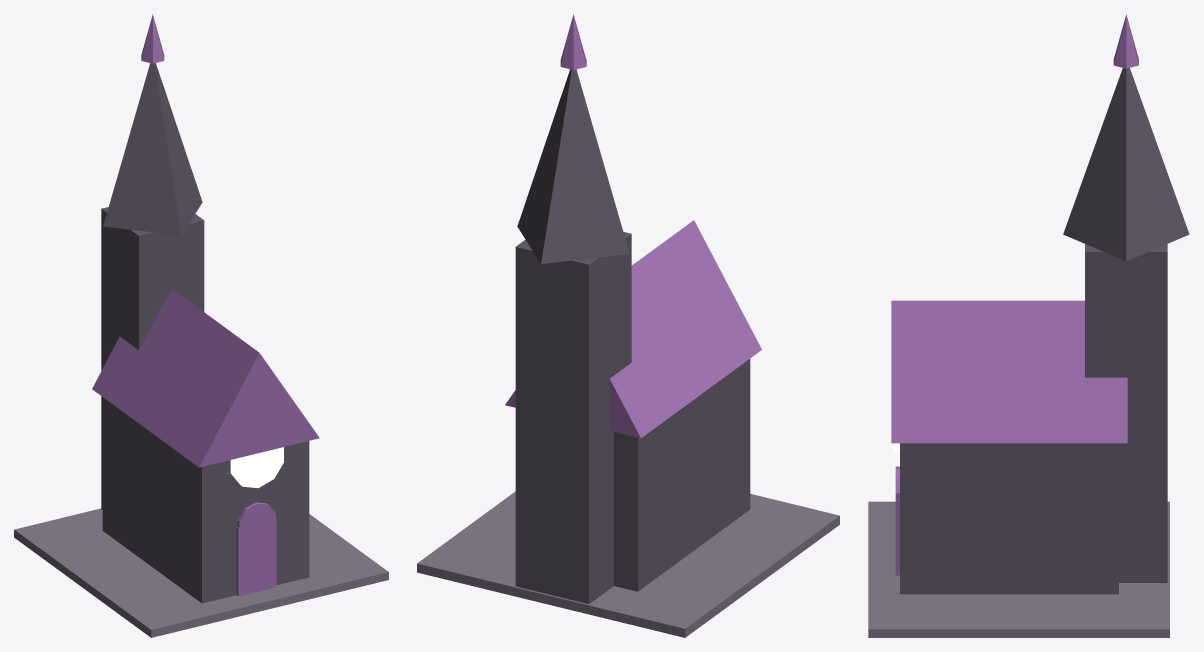
3 views of the same model, side by side, from view 1: azimuth 30°, elevation 25°; view 2: azimuth 150°, elevation 25°; view 3: azimuth 270°, elevation 25° (orthographic). The views are drawn at different scales.
Visible parts, largest first — view 1: body; view 2: body; view 3: body.
Boxes of the visible parts, box(x1,y1,x2,y2) form: body: box(14, 14, 388, 637); body: box(417, 14, 839, 637); body: box(868, 14, 1189, 637).
Bounding box in the file's own units: 12.4 × 25.4 × 13.2.
